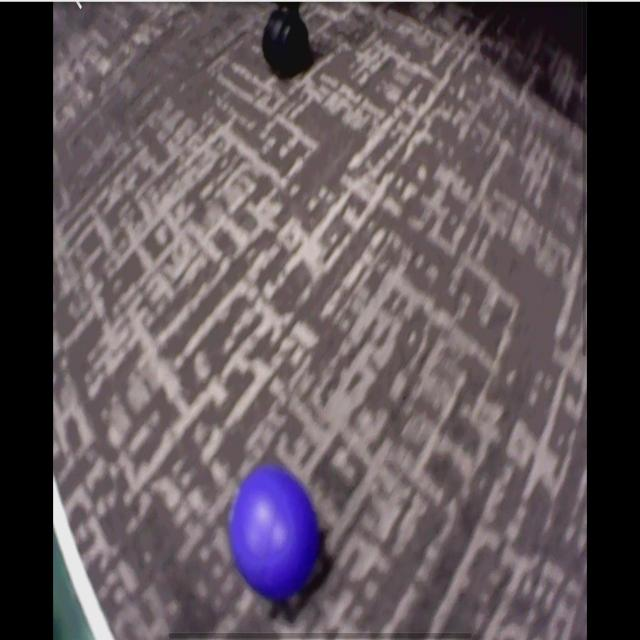ball: (229, 466, 321, 603)
